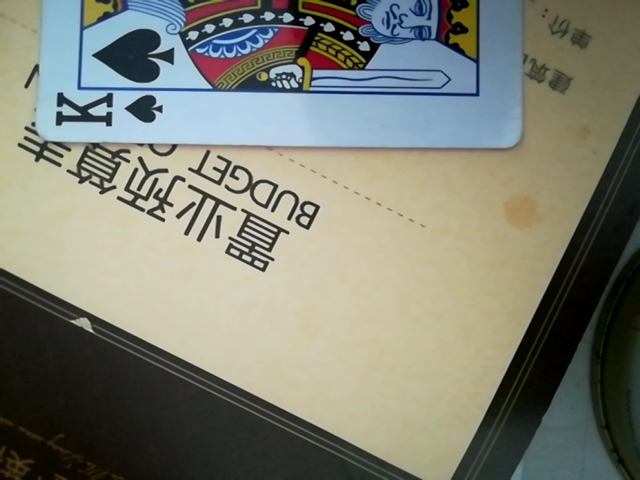ht k: (26, 0, 531, 150)
